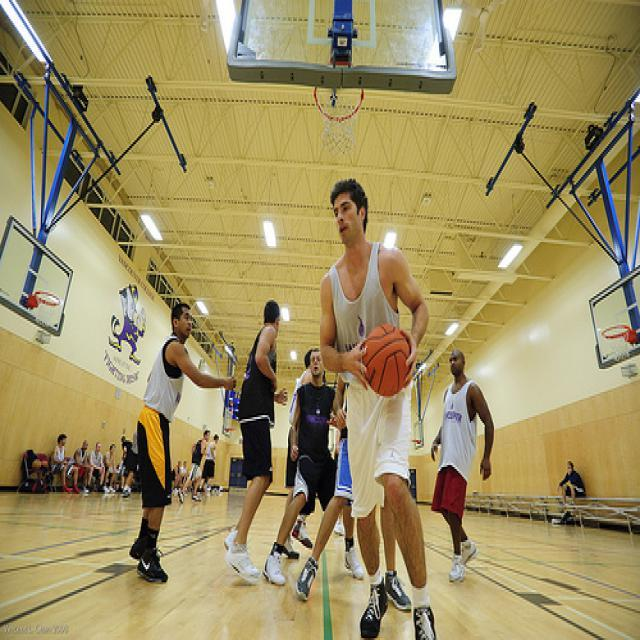basketball: (364, 324, 414, 398)
rim: (310, 57, 368, 121), (602, 323, 630, 342), (34, 290, 59, 310)
